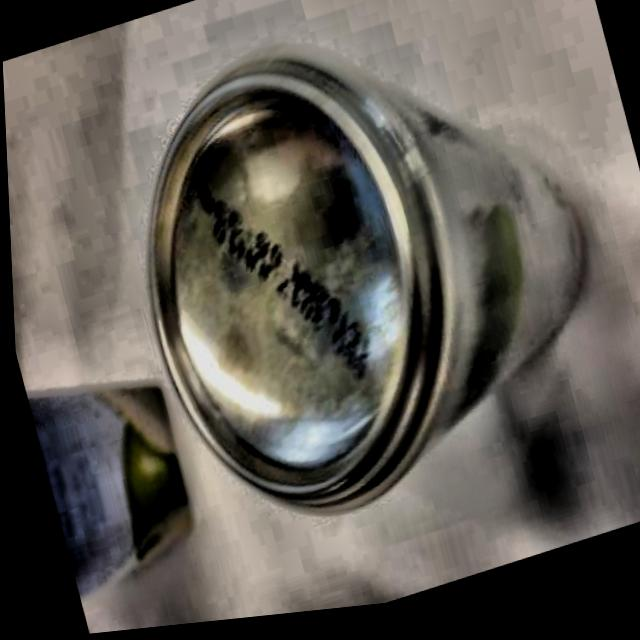Cans: (54, 0, 640, 591)
